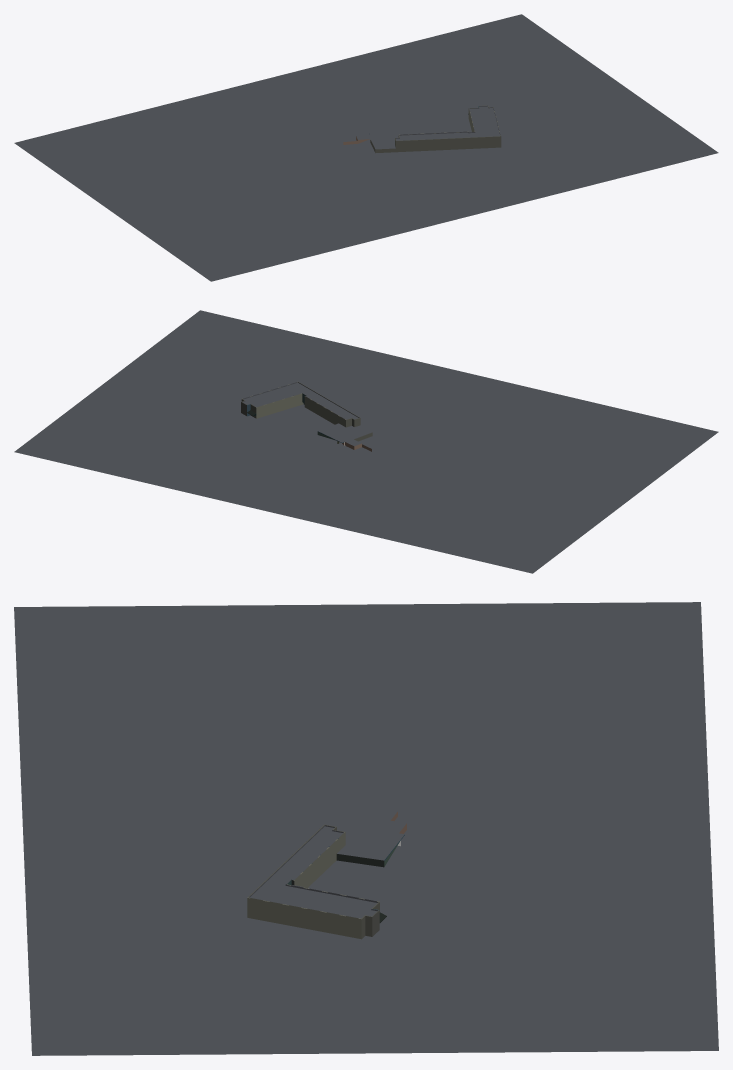
Rendered from chattanooga-choo-choo-hotel-2.glb.
3 renders of one model, top to bottom at view 1: azimuth 30°, elevation 25°; view 2: azimuth 150°, elevation 25°; view 3: azimuth 270°, elevation 25°, orthographic. The views are drawn at different scales.
Parts seen in each view (by area): view 1: LOD0; view 2: LOD0; view 3: LOD0.
Boxes of the visible parts, x1,y1,x2,y2 form: LOD0: (14, 14, 718, 281); LOD0: (14, 310, 718, 573); LOD0: (14, 602, 718, 1055).
Size of what is drawn, in the model's own units: 431 by 9.47 by 283.
2 materials, 2 textured.
